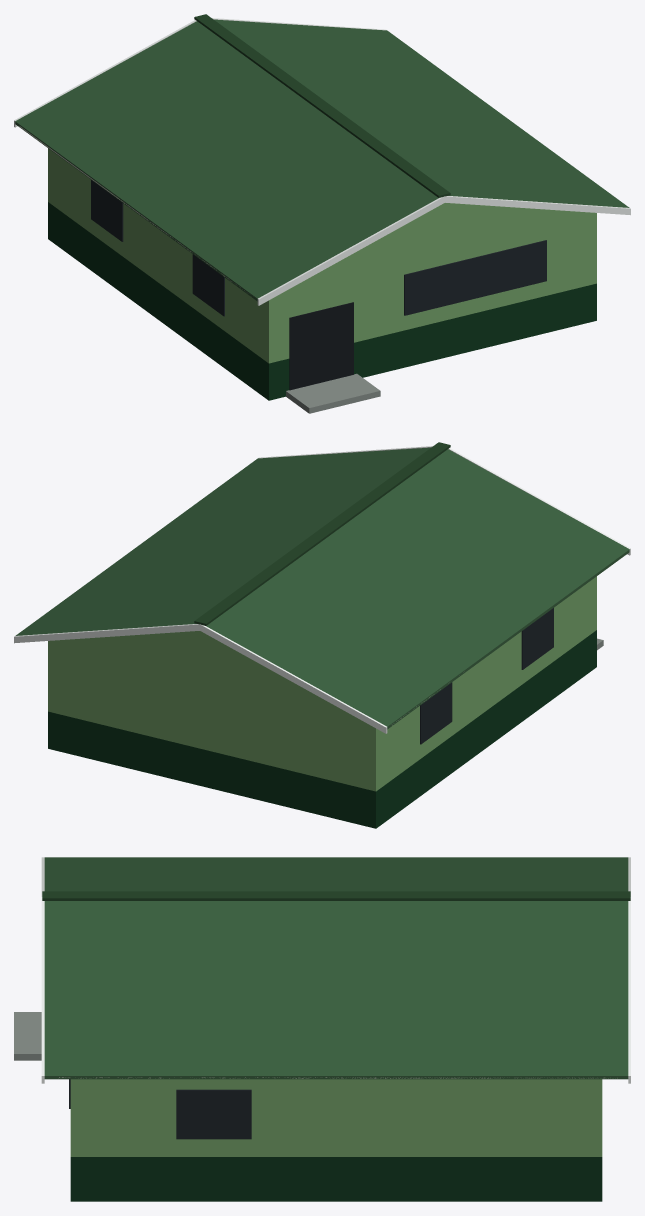
File: rares_chemical_storage.glb
The picture shows the model from 3 angles, top to bottom: view 1: azimuth 30°, elevation 25°; view 2: azimuth 150°, elevation 25°; view 3: azimuth 270°, elevation 25°; orthographic projection. The views are drawn at different scales.
Parts seen in each view (by area): view 1: RCS_Roof_Pitch_East, RCS_Upper_Front_Jamb, RCS_Base_Front_Jamb, RCS_Win_Front_Frame, RCS_Door_Frame, RCS_Fascia_Front, RCS_Roof_RidgeCap, RCS_InteriorFloor; view 2: RCS_Roof_Pitch_East, RCS_Upper_Front_Jamb, RCS_Base_Front_Jamb, RCS_Fascia_Front, RCS_Roof_RidgeCap, RCS_Win_Front_Frame; view 3: RCS_Roof_Pitch_East, RCS_Upper_Front_Jamb, RCS_Base_Front_Jamb, RCS_Roof_RidgeCap, RCS_Win_Front_Frame, RCS_Fascia_Front, RCS_InteriorFloor.
Part boxes in pixels (x1,y1,x2,y2): RCS_Roof_Pitch_East: (15, 19, 629, 301); RCS_Upper_Front_Jamb: (48, 148, 596, 363); RCS_Base_Front_Jamb: (48, 202, 596, 400); RCS_Win_Front_Frame: (91, 180, 546, 316); RCS_Door_Frame: (289, 302, 353, 390); RCS_Fascia_Front: (14, 18, 630, 305); RCS_Roof_RidgeCap: (194, 14, 450, 197); RCS_InteriorFloor: (286, 373, 380, 413); RCS_Roof_Pitch_East: (15, 447, 629, 729); RCS_Upper_Front_Jamb: (48, 576, 596, 791); RCS_Base_Front_Jamb: (48, 630, 596, 828); RCS_Fascia_Front: (14, 446, 630, 733); RCS_Roof_RidgeCap: (194, 442, 450, 625); RCS_Win_Front_Frame: (420, 608, 553, 744); RCS_Roof_Pitch_East: (44, 857, 628, 1079); RCS_Upper_Front_Jamb: (70, 1079, 602, 1156); RCS_Base_Front_Jamb: (70, 1157, 602, 1201); RCS_Roof_RidgeCap: (42, 891, 630, 900); RCS_Win_Front_Frame: (69, 1079, 251, 1139); RCS_Fascia_Front: (41, 857, 630, 1083); RCS_InteriorFloor: (14, 1012, 41, 1060).
Size of the model in its own units: 10.98 by 4.93 by 13.1.
